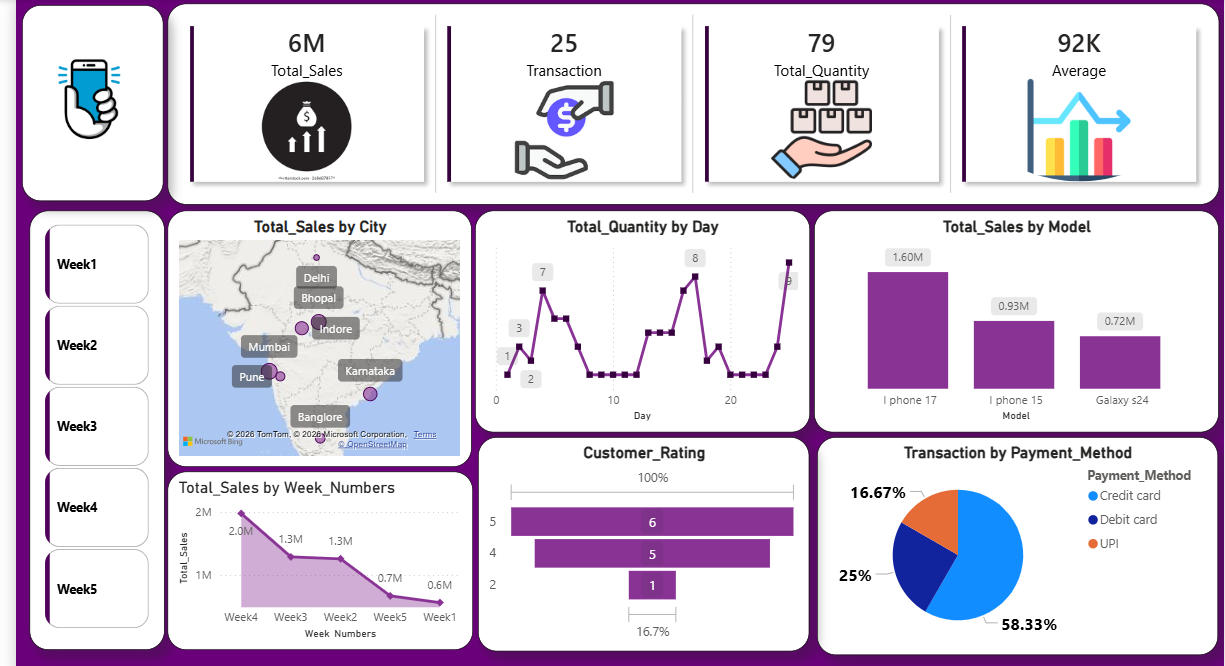

The page's visual inventory and layout, read from the dashboard file:
{"tool":"powerbi","page":{"name":"Page 1","canvas":[1280,720],"ordinal":0},"visuals":[{"type":"shape","box":[6,6,150,208],"z":0,"group":"g1"},{"type":"shape","box":[14.3,224.3,143.2,466],"z":0},{"type":"image","box":[21.2,7.5,110.6,195.8],"z":1000,"group":"g1"},{"type":"advancedSlicerVisual","fields":{"Values":["sales_data.Week_Numbers"]},"box":[25.4,233.8,120.9,442.2],"z":1000},{"type":"cardVisual","fields":{"Data":["sales_data.Total_Sales","sales_data.Transaction","sales_data.Total_Quantity","sales_data.Average"]},"box":[160.7,4.8,1115,213.1],"z":2000},{"type":"group","id":"g1","title":"Group 1","box":[6,6,150,208],"z":3000},{"type":"map","fields":{"Category":["sales_data.City"],"Size":["sales_data.Total_Sales"]},"box":[160.7,224.3,322.9,272],"z":4000},{"type":"lineChart","fields":{"Category":["sales_data.Date.Variation.Date Hierarchy.Month","sales_data.Date.Variation.Date Hierarchy.Day"],"Y":["sales_data.Total_Quantity"]},"box":[486,225,355,235],"z":5000},{"type":"clusteredColumnChart","fields":{"Category":["sales_data.Model"],"Y":["sales_data.Total_Sales"]},"box":[846,224,429,235],"z":6000},{"type":"pieChart","fields":{"Category":["sales_data.Payment_Method"],"Y":["sales_data.Transaction"]},"box":[850,464,425,231],"z":7000},{"type":"funnel","title":" Customer_Rating ","fields":{"Category":["sales_data.Customer_Rating"],"Y":["CountNonNull(sales_data.Customer_Rating)"]},"box":[489.9,464.5,351.5,227.5],"z":8000},{"type":"areaChart","fields":{"Y":["sales_data.Total_Sales"],"Category":["sales_data.Week_Numbers"]},"box":[160,501,324,189],"z":9000}]}

Visuals, with their boxes in screenshot pixels (x1, y1, x2, y2):
shape: <region>15, 0, 157, 196</region>
shape: <region>23, 206, 159, 647</region>
image: <region>30, 1, 134, 186</region>
advancedSlicerVisual - sales_data.Week_Numbers: <region>34, 215, 148, 634</region>
cardVisual - sales_data.Total_Sales x sales_data.Transaction: <region>162, 0, 1217, 200</region>
"Group 1" group: <region>15, 0, 157, 196</region>
map - sales_data.City x sales_data.Total_Sales: <region>162, 206, 467, 464</region>
lineChart - sales_data.Date.Variation.Date Hierarchy.Month x sales_data.Date.Variation.Date Hierarchy.Day: <region>470, 207, 806, 429</region>
clusteredColumnChart - sales_data.Model x sales_data.Total_Sales: <region>811, 206, 1217, 428</region>
pieChart - sales_data.Payment_Method x sales_data.Transaction: <region>814, 433, 1217, 652</region>
" Customer_Rating " funnel: <region>473, 433, 806, 649</region>
areaChart - sales_data.Total_Sales x sales_data.Week_Numbers: <region>161, 468, 468, 647</region>
